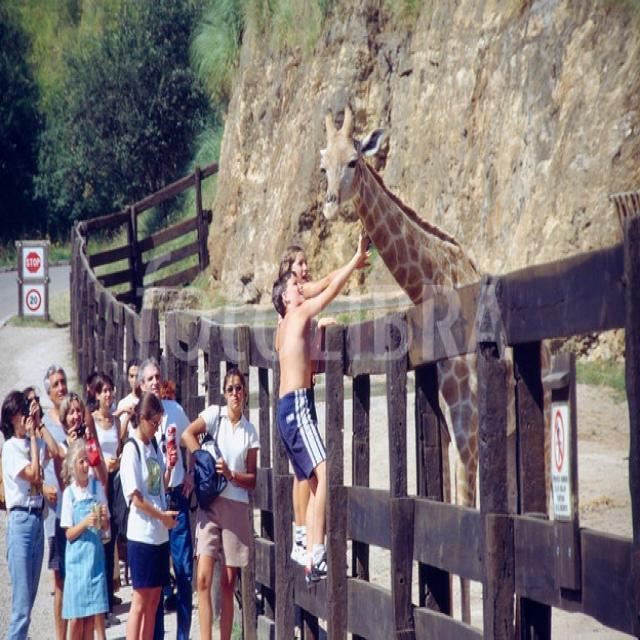body: (272, 226, 373, 583), (277, 243, 372, 562), (178, 366, 260, 638), (134, 355, 194, 640), (116, 386, 178, 638), (48, 388, 108, 639), (0, 386, 47, 638), (56, 433, 113, 639), (40, 361, 69, 640), (91, 369, 122, 628), (115, 357, 144, 445), (21, 384, 46, 441), (82, 372, 99, 411), (160, 378, 176, 402)
